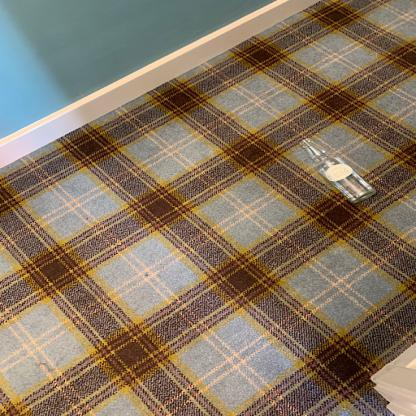trash: (294, 138, 377, 204)
